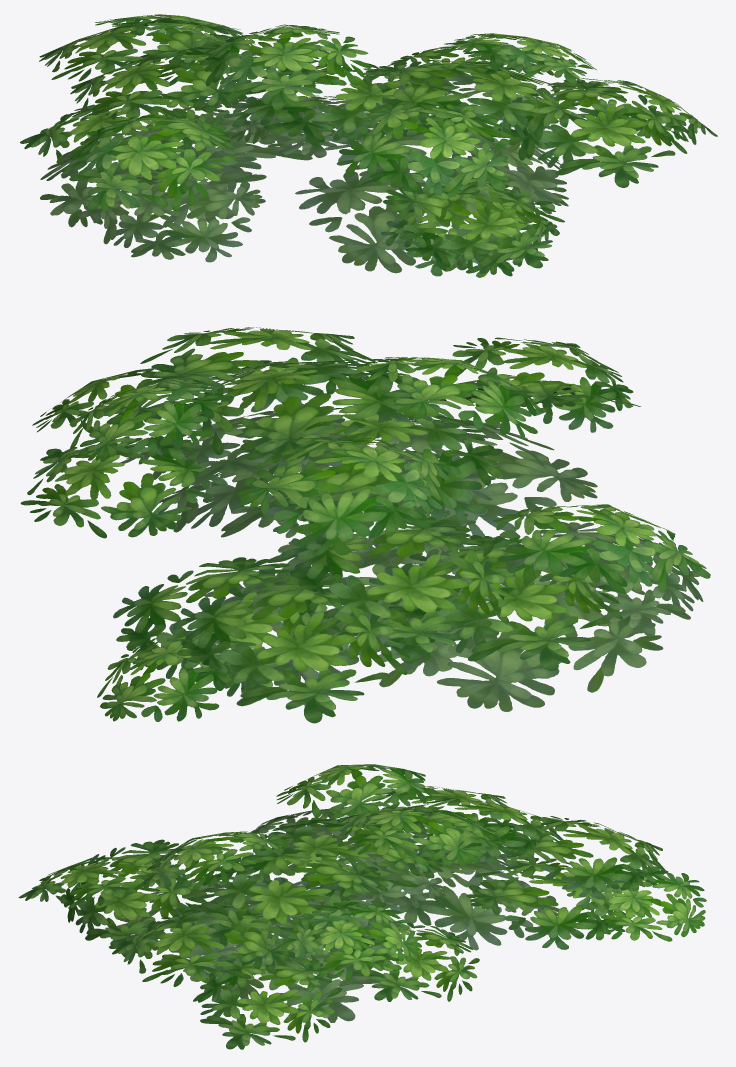
The model's file is Scene_cao_008.FBX.
The picture shows the model from 3 angles, top to bottom: view 1: azimuth 30°, elevation 25°; view 2: azimuth 150°, elevation 25°; view 3: azimuth 270°, elevation 25°; orthographic projection. The views are drawn at different scales.
Parts seen in each view (by area): view 1: Scene_cao_008; view 2: Scene_cao_008; view 3: Scene_cao_008.
Part boxes in pixels (x1,y1,x2,y2): Scene_cao_008: (20, 14, 717, 277); Scene_cao_008: (20, 327, 710, 723); Scene_cao_008: (18, 764, 706, 1049).
Bounding box in the file's own units: 272 × 56.14 × 312.
